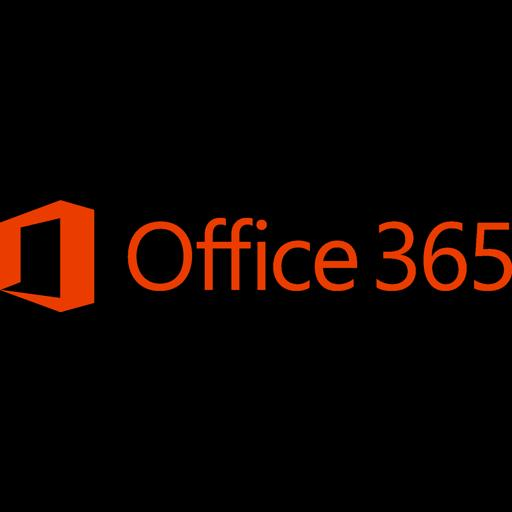Office365: (0, 200, 512, 312)
